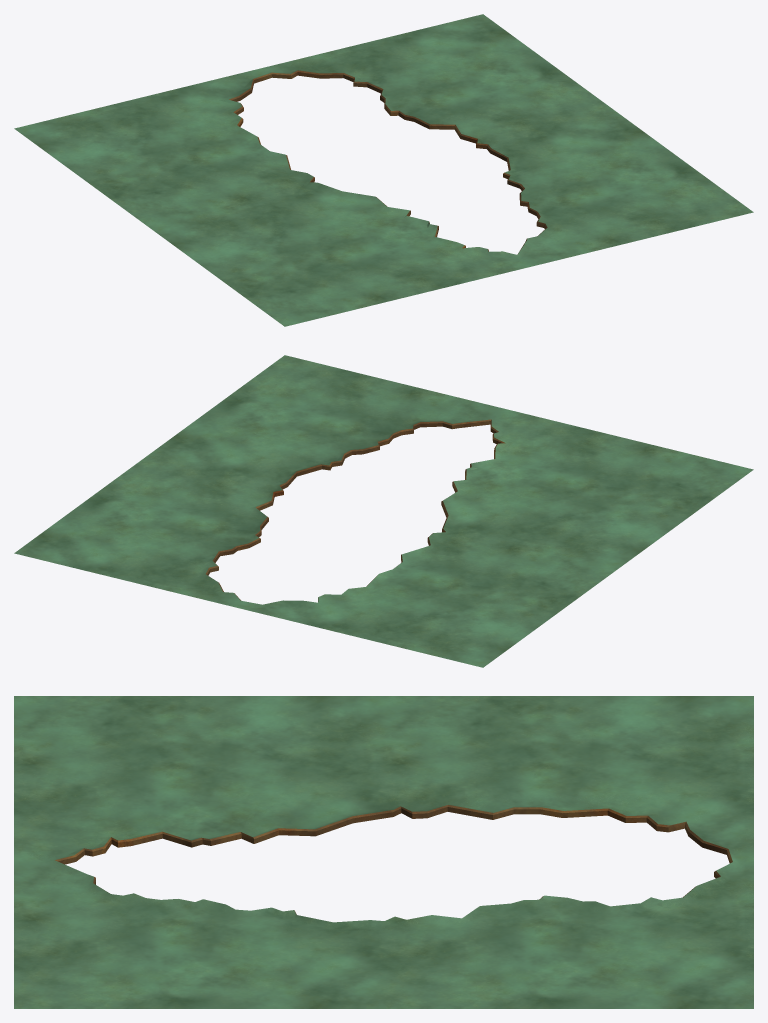
The model's file is Floor_RustedHole.FBX.
The picture shows the model from 3 angles, top to bottom: view 1: azimuth 30°, elevation 25°; view 2: azimuth 150°, elevation 25°; view 3: azimuth 270°, elevation 25°; orthographic projection. The views are drawn at different scales.
Visible parts, largest first — view 1: Floor Large003; view 2: Floor Large003; view 3: Floor Large003.
Boxes of the visible parts, bbox=[...] form: Floor Large003: bbox=[14, 14, 753, 326]; Floor Large003: bbox=[14, 355, 753, 667]; Floor Large003: bbox=[14, 696, 753, 1008].
Bounding box in the file's own units: 400 × 3.9 × 400.
